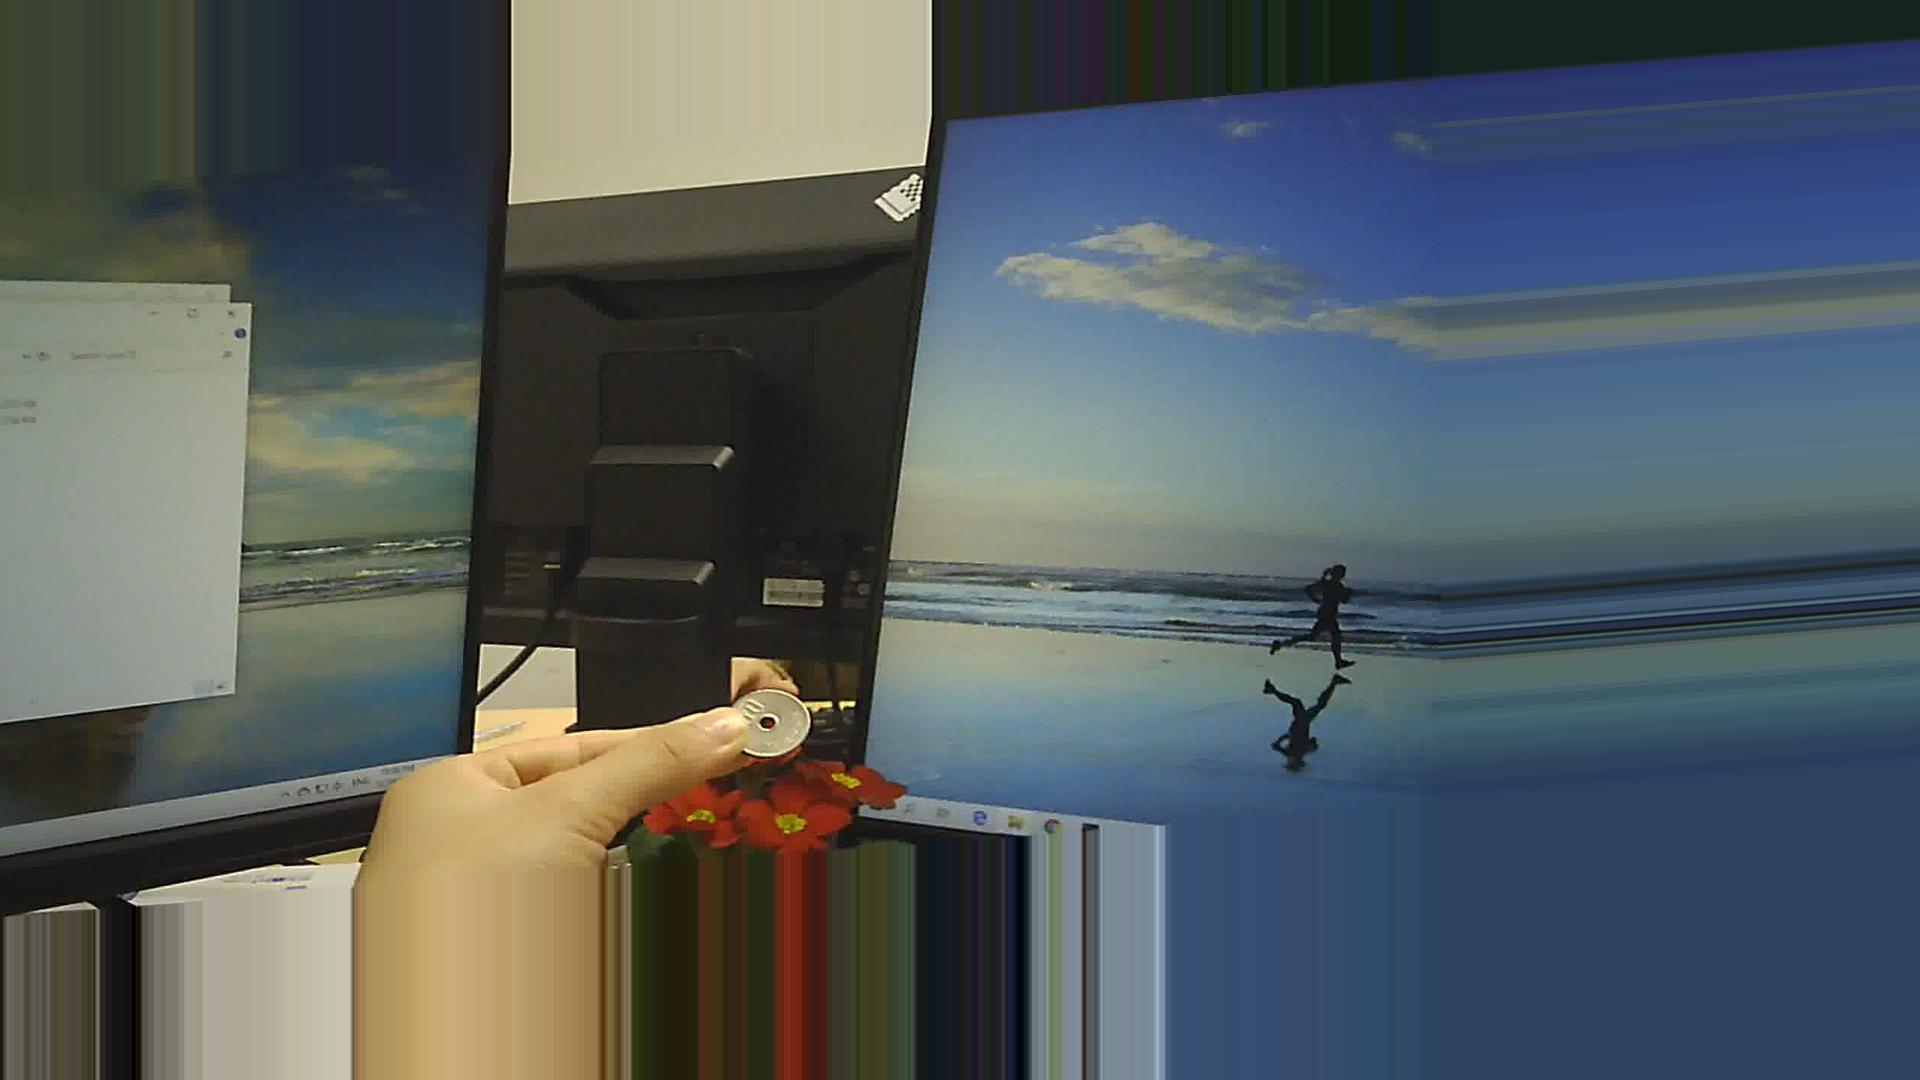50 Yen: (721, 673, 819, 765)
